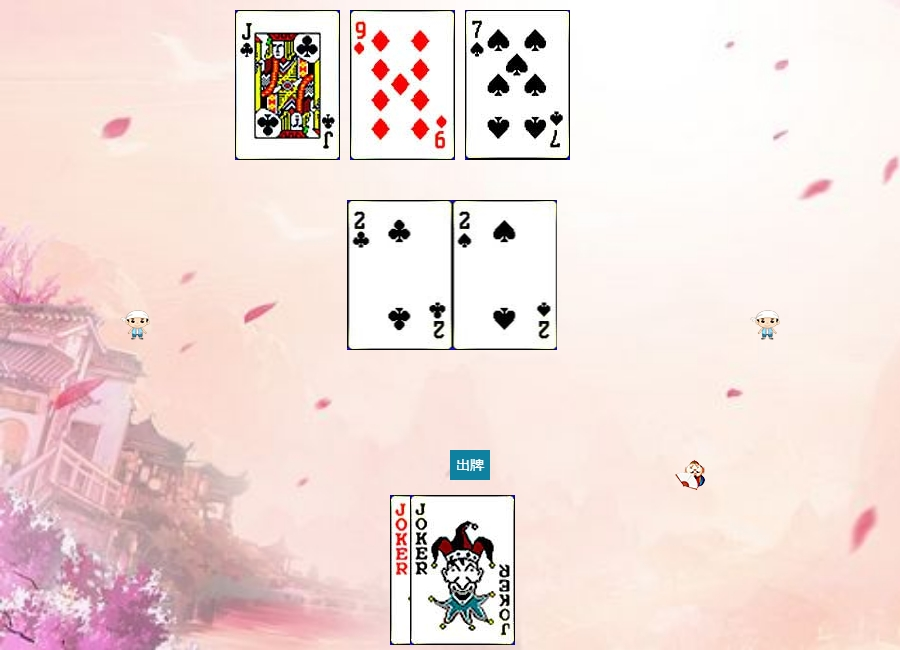11~2: (235, 10, 340, 160)
15~2: (348, 200, 453, 350)
15~4: (453, 200, 558, 350)
17~3: (410, 495, 515, 645)
18~4: (390, 495, 495, 645)
7~4: (465, 10, 570, 160)
9~1: (350, 10, 455, 160)
